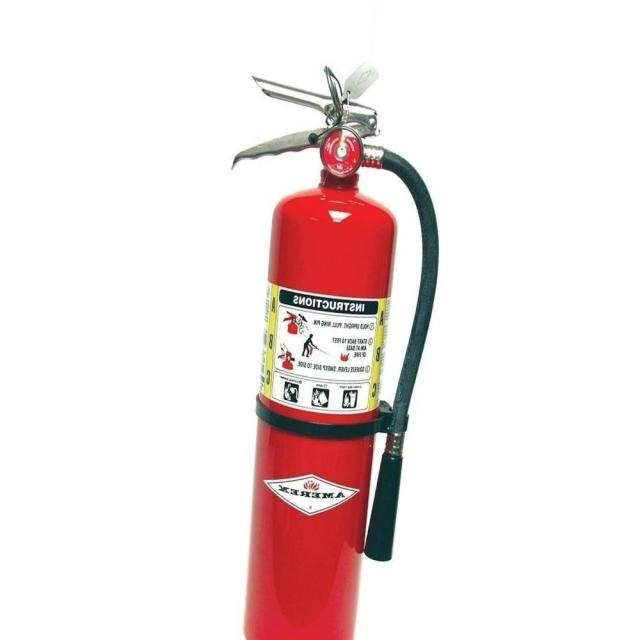fire_extinguisher: (226, 55, 447, 639)
